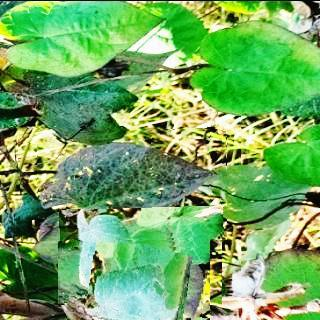leaf spot: (18, 127, 227, 239), (71, 186, 210, 320)
